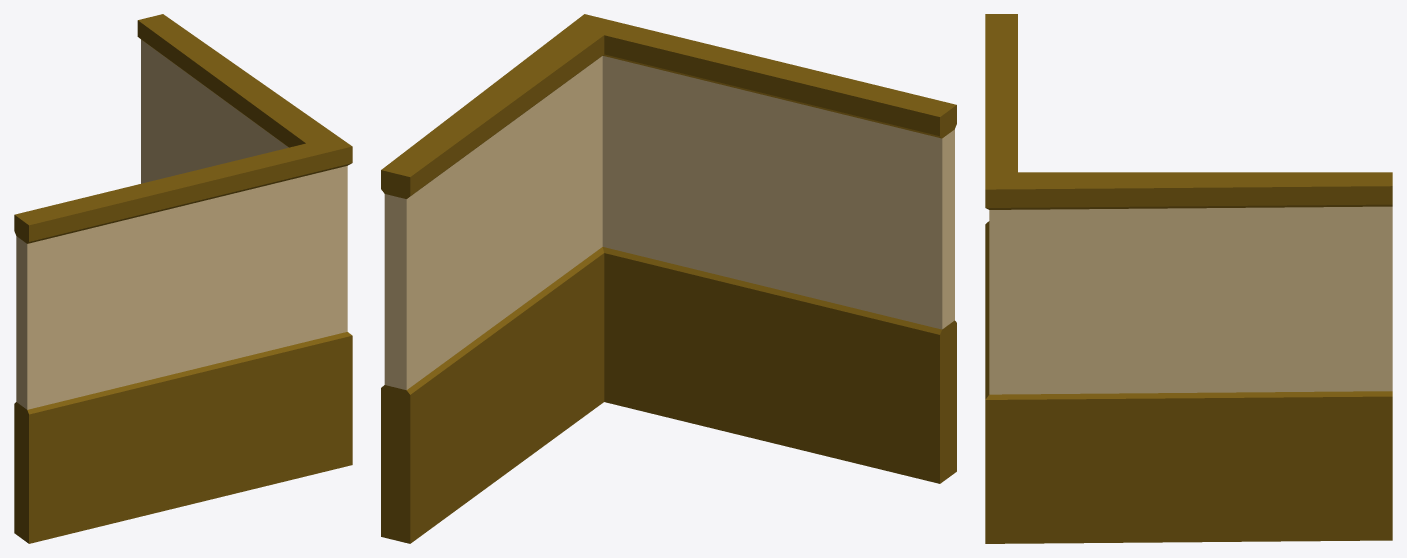
File: Classic_Wall_Corner_snaps001_01.fbx
3 renders of one model, left to right at view 1: azimuth 30°, elevation 25°; view 2: azimuth 150°, elevation 25°; view 3: azimuth 270°, elevation 25°, orthographic. The views are drawn at different scales.
Visible parts, largest first — view 1: Classic_Wall_Corner_snaps001_01; view 2: Classic_Wall_Corner_snaps001_01; view 3: Classic_Wall_Corner_snaps001_01.
Part boxes in pixels (<box>): Classic_Wall_Corner_snaps001_01: <box>14,14,352,543</box>; Classic_Wall_Corner_snaps001_01: <box>381,14,956,543</box>; Classic_Wall_Corner_snaps001_01: <box>985,14,1392,543</box>.
Size of the model in its own units: 319 by 300 by 313.
